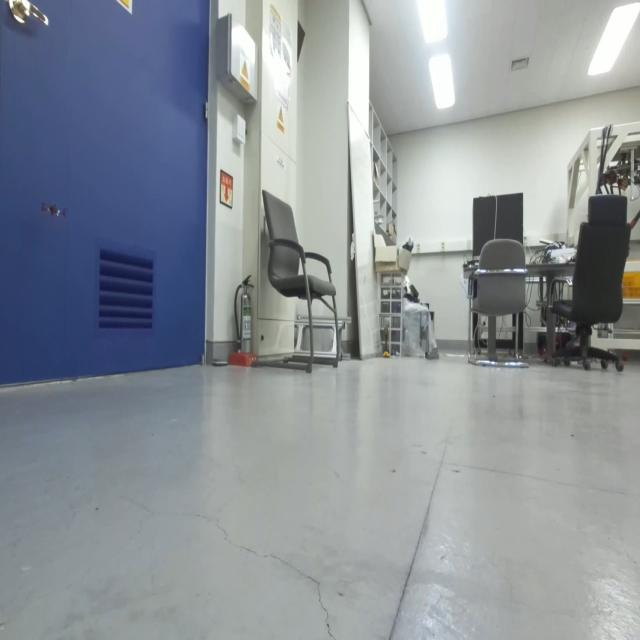crazyflie: (38, 192, 70, 227)
